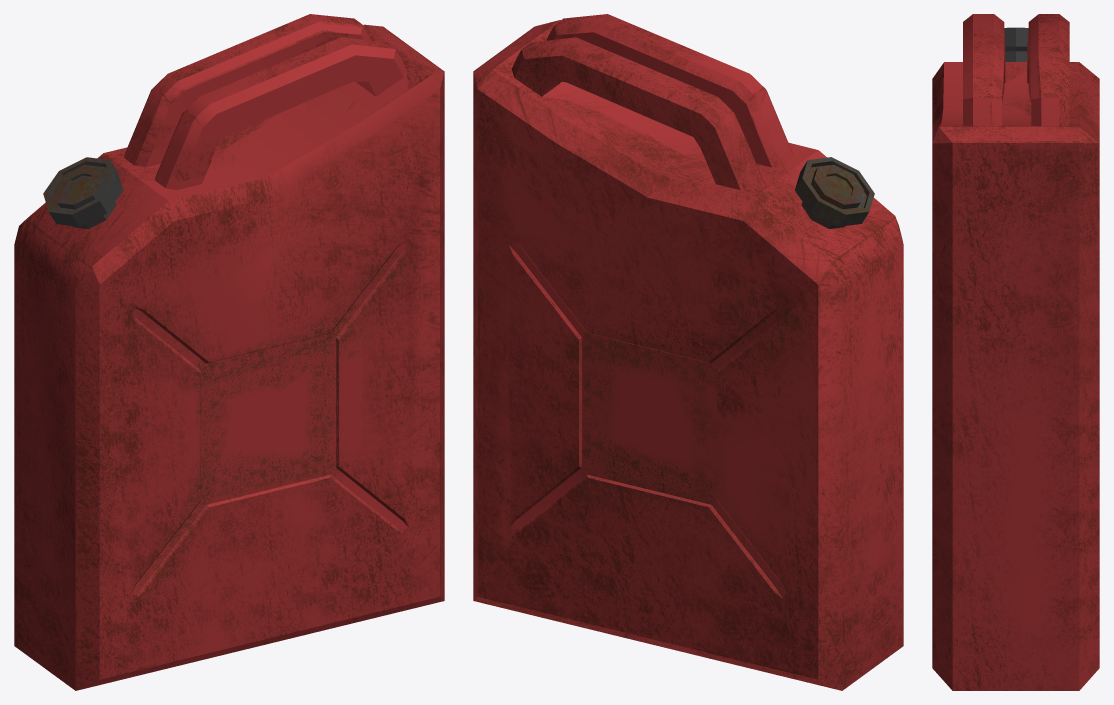
The model's file is gasoline_tank.glb.
The picture shows the model from 3 angles, left to right: view 1: azimuth 30°, elevation 25°; view 2: azimuth 150°, elevation 25°; view 3: azimuth 270°, elevation 25°; orthographic projection. The views are drawn at different scales.
Visible parts, largest first — view 1: GasolineTank_1, Cap_0; view 2: GasolineTank_1, Cap_0; view 3: GasolineTank_1, Cap_0.
Boxes of the visible parts, x1,y1,x2,y2 form: GasolineTank_1: (14, 14, 444, 690); Cap_0: (43, 157, 123, 229); GasolineTank_1: (473, 14, 903, 690); Cap_0: (794, 157, 874, 228); GasolineTank_1: (932, 14, 1099, 690); Cap_0: (1004, 27, 1028, 61).
Bounding box in the file's own units: 3.45 × 5.09 × 1.31.
2 materials, 2 textured.
